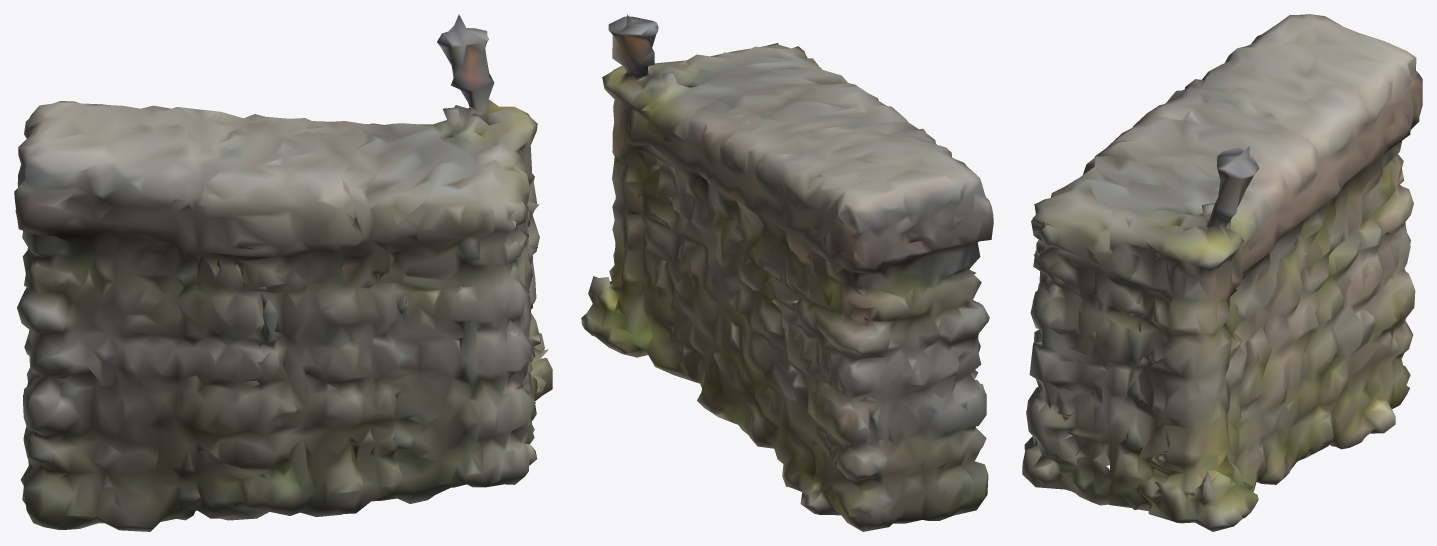
File: stone_wall_segment_1787079001245.glb
The picture shows the model from 3 angles, left to right: view 1: azimuth 30°, elevation 25°; view 2: azimuth 150°, elevation 25°; view 3: azimuth 270°, elevation 25°; orthographic projection. The views are drawn at different scales.
Bounding box in the file's own units: 1.02 × 0.8675 × 0.7472.
